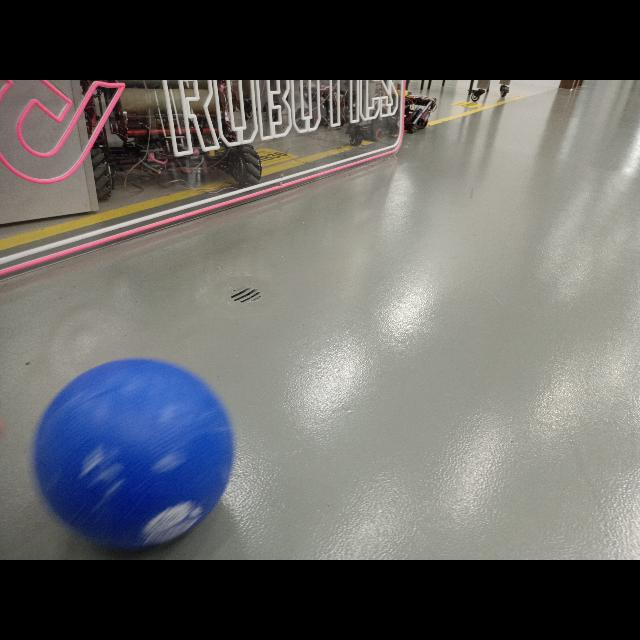B: (41, 362, 231, 552)
